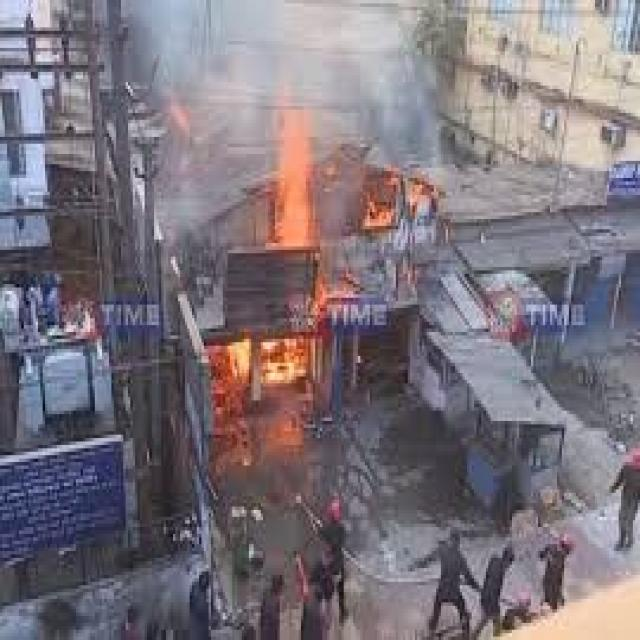fire: (208, 342, 313, 455), (263, 99, 318, 250), (360, 168, 424, 236)
